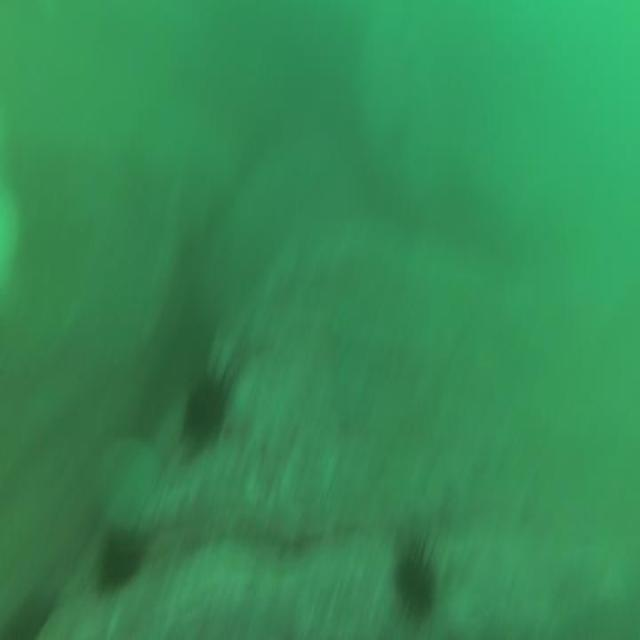echinus: (398, 554, 436, 622), (185, 378, 225, 438), (101, 534, 139, 591)
